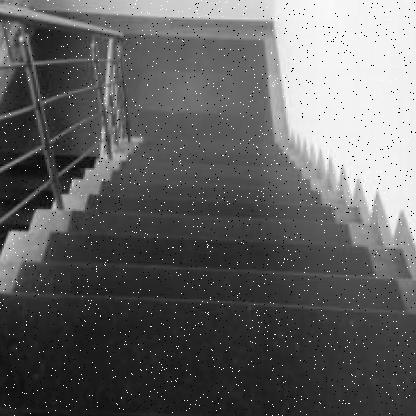stair_down: (14, 185, 396, 354)
